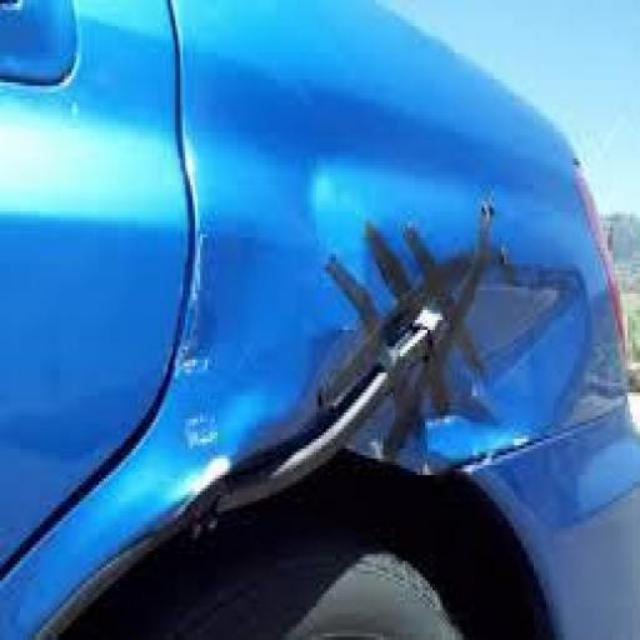dent: (166, 209, 230, 450)
dislocated part: (307, 215, 606, 484)
